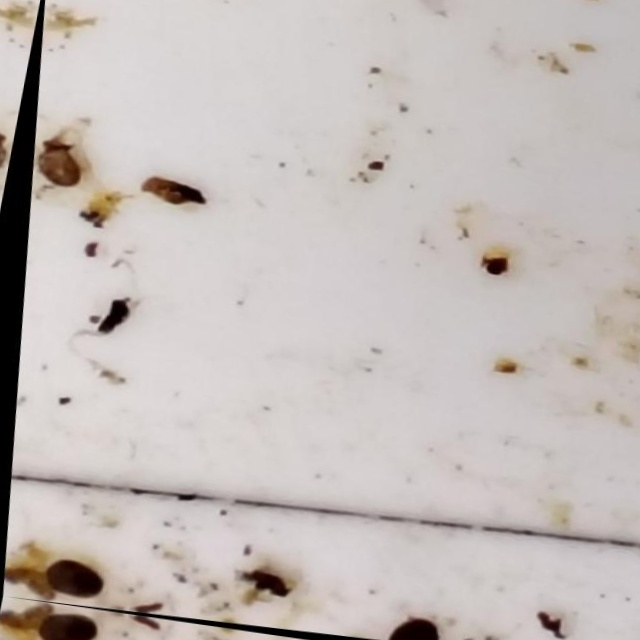varroa: (33, 554, 102, 603)
